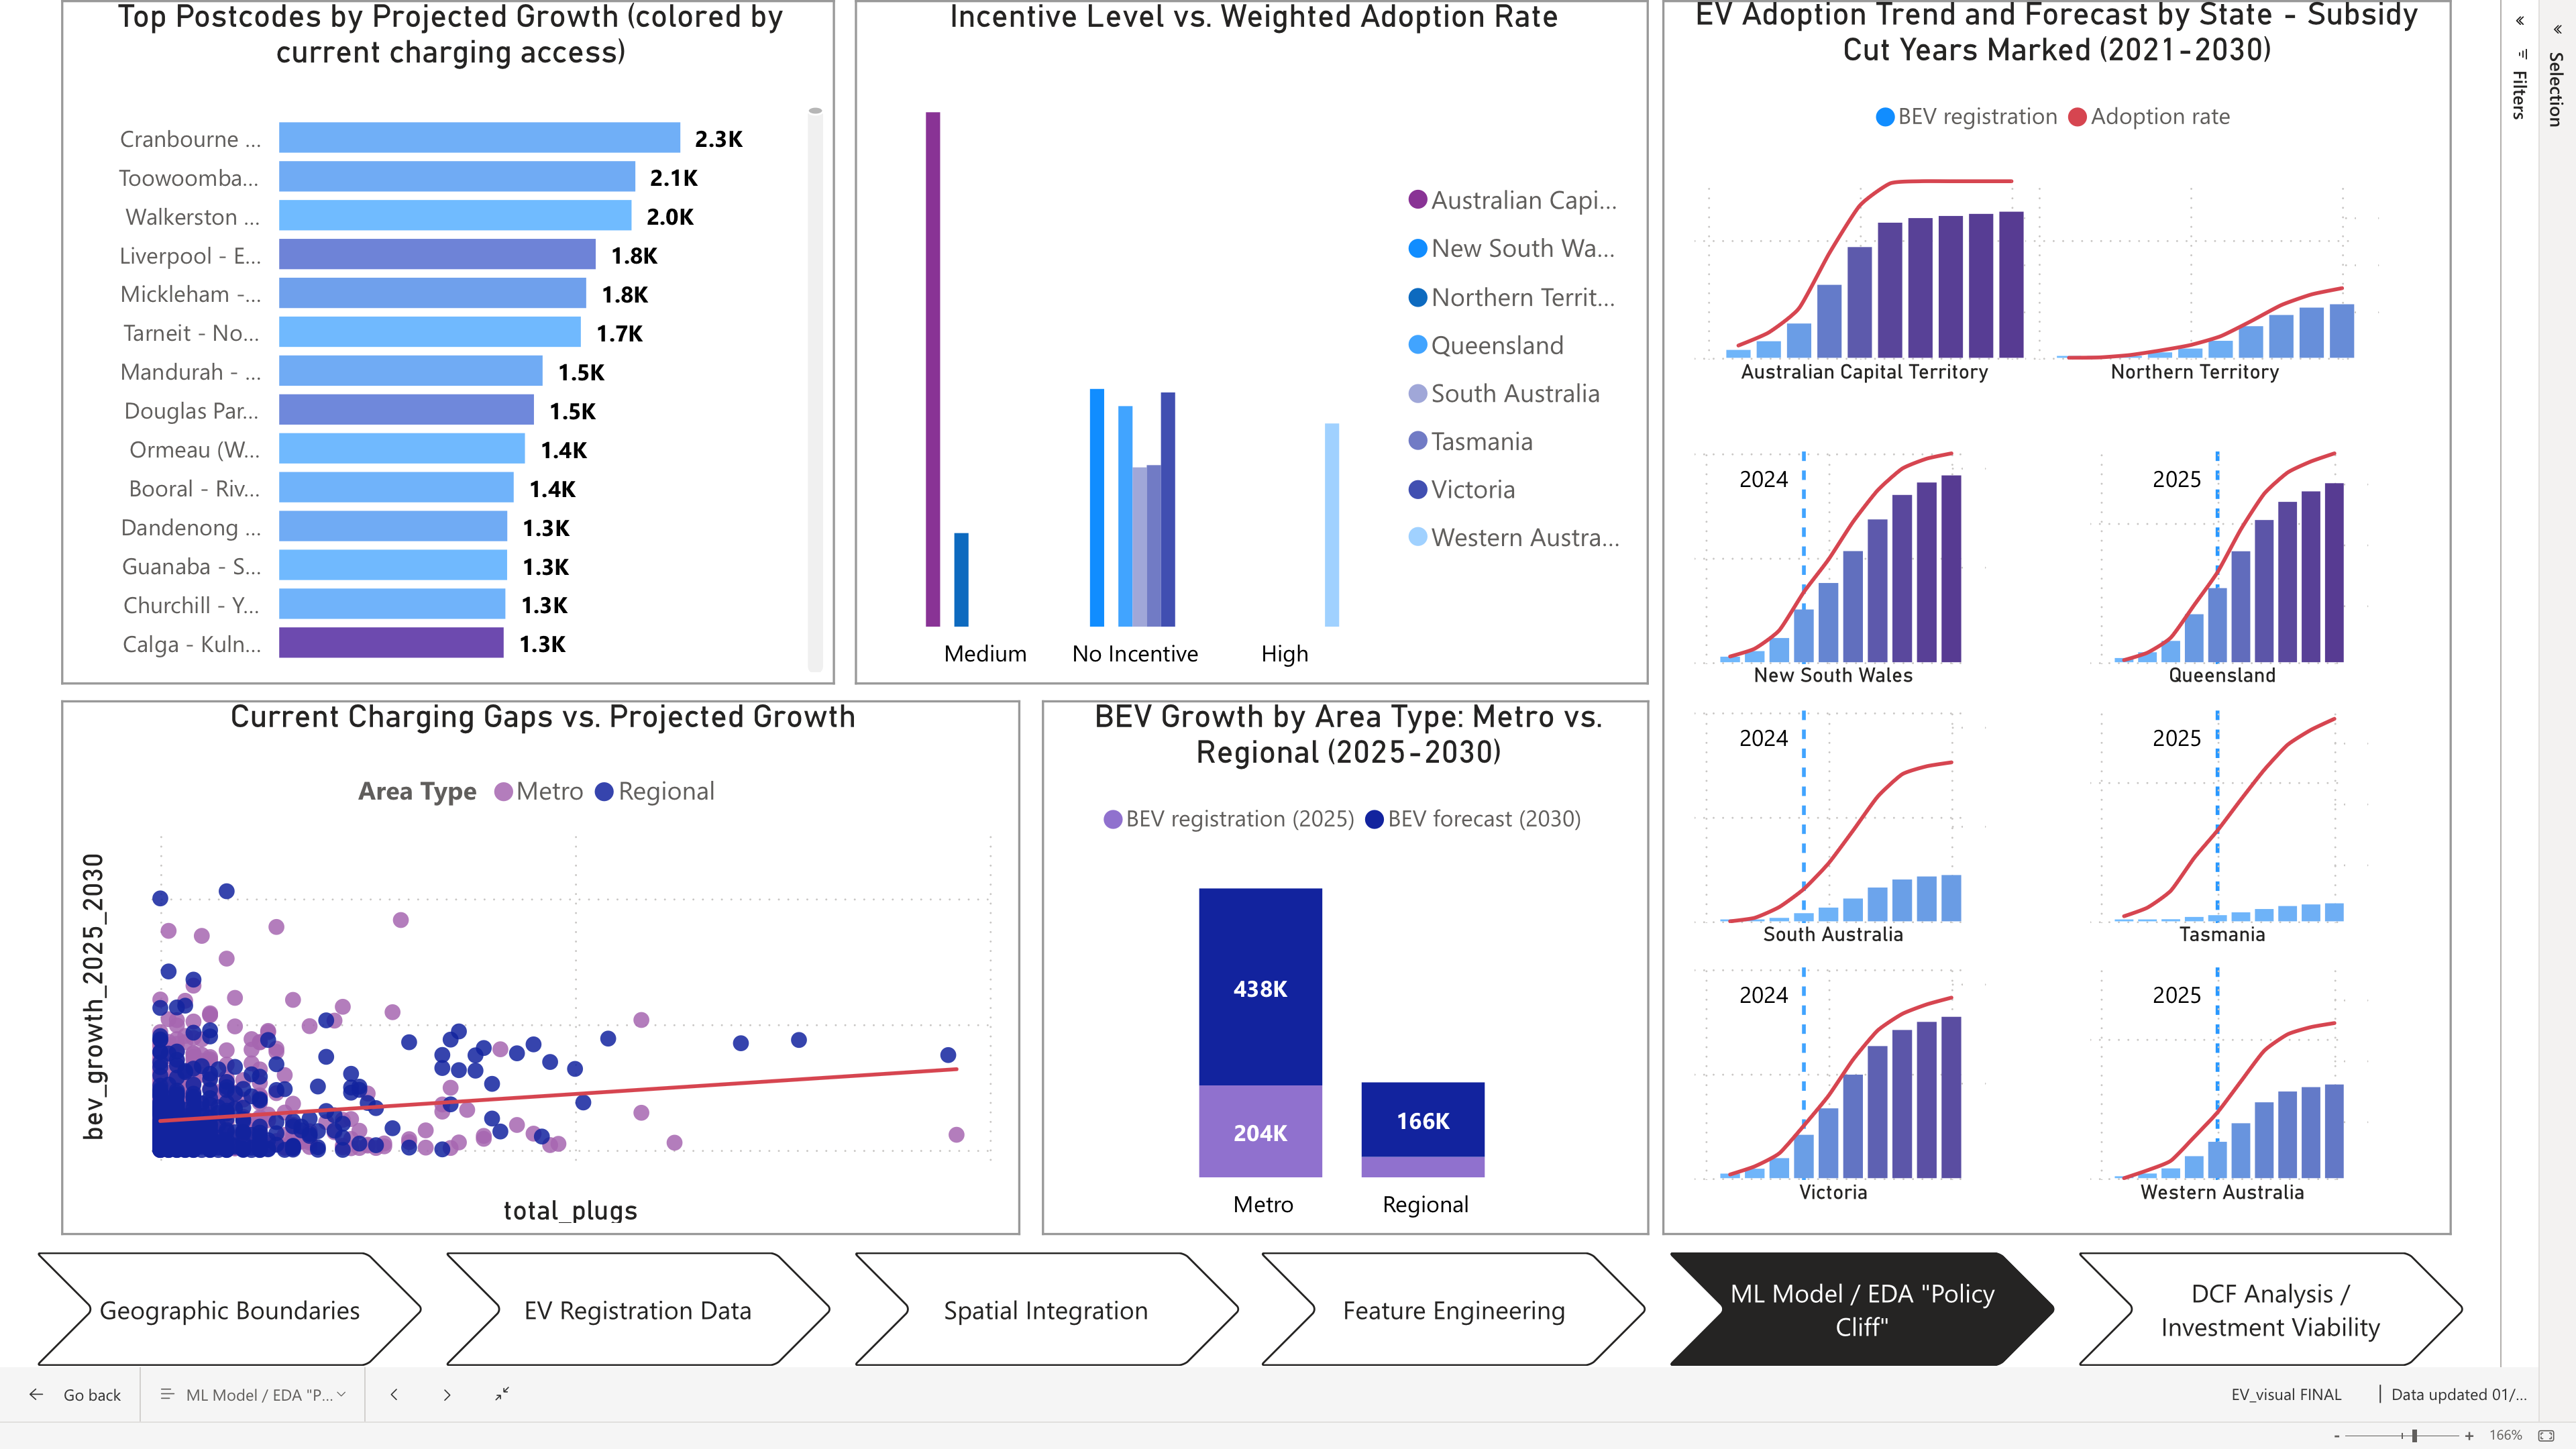

Layout of this report page (visuals, bound fields, positions):
{"tool":"powerbi","page":{"name":"ML Model / EDA \"Policy Cliff\"","canvas":[1280,720],"ordinal":4},"visuals":[{"type":"scatterChart","title":"Current Charging Gaps vs. Projected Growth","fields":{"Series":["ev_master_charging.Area Type"],"X":["regional_forecast_2025_2030.total_plugs"],"Y":["regional_forecast_2025_2030.bev_growth_2025_2030"]},"box":[14,368.7,505.3,281.6],"z":0},{"type":"lineClusteredColumnComboChart","title":"EV Adoption Trend and Forecast by State (2025-2030)","fields":{"Category":["ev_forecast_2026_2030.year"],"Rows":["ev_forecast_2026_2030.STE_NAME21"],"Y":["Sum(ev_forecast_2026_2030.bev_count)"],"Y2":["Avg(ev_forecast_2026_2030.adoption_rate)"]},"box":[858.8,0,412.1,650.5],"z":1000},{"type":"clusteredBarChart","title":"Top Postcodes by Projected Growth (colored by current charging access)","fields":{"Category":["regional_forecast_2025_2030.SA2_NAME21"],"Y":["Sum(regional_forecast_2025_2030.bev_growth_2025_2030)"]},"box":[13.9,0,407.5,360.5],"z":2000},{"type":"clusteredColumnChart","title":"Incentive Level vs. Weighted Adoption Rate","fields":{"Category":["ev_master_charging.Incentive Group"],"Series":["ev_master_charging.STE_NAME21"],"Y":["ev_master_charging.Weighted Adoption Rate"]},"box":[432,0,418.1,360.5],"z":3000},{"type":"columnChart","title":"BEV Growth by Area Type: Metro vs. Regional (2025-2030)","fields":{"Category":["regional_forecast_2025_2030.Area Type"],"Y":["Sum(regional_forecast_2025_2030.bev_count_2025)","Sum(regional_forecast_2025_2030.bev_count_2030)"]},"box":[530.1,369.1,320,281.6],"z":4000},{"type":"pageNavigator","box":[0,659.4,1280,60.6],"z":5000}]}

Visuals, with their boxes on the page's 1280x720 design canvas (x1, y1, x2, y2). These are canvas units, not pixel positions in the 2576x1449 screenshot, which may show the page scaled, cropped or inside an application window:
"Current Charging Gaps vs. Projected Growth" scatterChart: (14, 369, 519, 650)
"EV Adoption Trend and Forecast by State (2025-2030)" lineClusteredColumnComboChart: (859, 0, 1271, 650)
"Top Postcodes by Projected Growth (colored by current charging access)" clusteredBarChart: (14, 0, 421, 360)
"Incentive Level vs. Weighted Adoption Rate" clusteredColumnChart: (432, 0, 850, 360)
"BEV Growth by Area Type: Metro vs. Regional (2025-2030)" columnChart: (530, 369, 850, 651)
pageNavigator: (0, 659, 1280, 720)
